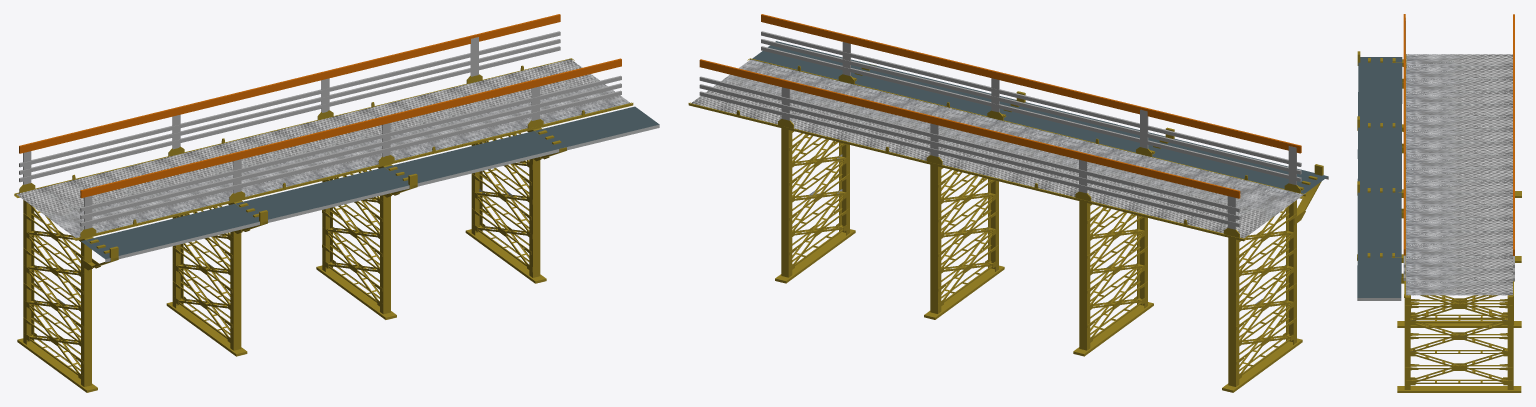
File: ескол.fbx
3 renders of one model, left to right at view 1: azimuth 30°, elevation 25°; view 2: azimuth 150°, elevation 25°; view 3: azimuth 270°, elevation 25°, orthographic. The views are drawn at different scales.
Parts seen in each view (by area): view 1: estakada, Plane, Cube.050, Cube.051, Cube.052, Cube.064, Cube.065, Cube.055, Cube.053, Cube.057; view 2: estakada, Plane, Cube.051, Cube.050, Cube.053, Cube.057, Cube.055, Cube.065, Cube.064, Cube.052; view 3: Plane, estakada, Cube.050, Cube.051.
Boxes of the visible parts, x1,y1,x2,y2 form: estakada: [14, 58, 659, 392]; Plane: [16, 59, 629, 237]; Cube.050: [80, 58, 621, 198]; Cube.051: [19, 14, 560, 153]; Cube.052: [80, 75, 621, 211]; Cube.064: [80, 83, 621, 219]; Cube.065: [80, 90, 621, 226]; Cube.055: [19, 39, 560, 174]; Cube.053: [19, 31, 560, 167]; Cube.057: [19, 46, 560, 182]; estakada: [688, 41, 1328, 392]; Plane: [691, 59, 1303, 238]; Cube.051: [699, 59, 1240, 198]; Cube.050: [761, 14, 1301, 153]; Cube.053: [699, 76, 1240, 212]; Cube.057: [699, 91, 1240, 226]; Cube.055: [699, 84, 1240, 219]; Cube.065: [761, 46, 1301, 181]; Cube.064: [761, 39, 1301, 174]; Cube.052: [761, 31, 1301, 166]; Plane: [1406, 54, 1512, 295]; estakada: [1357, 51, 1521, 392]; Cube.050: [1403, 14, 1405, 255]; Cube.051: [1513, 14, 1514, 255].
Bounding box in the file's own units: 1484 × 509 × 426.
